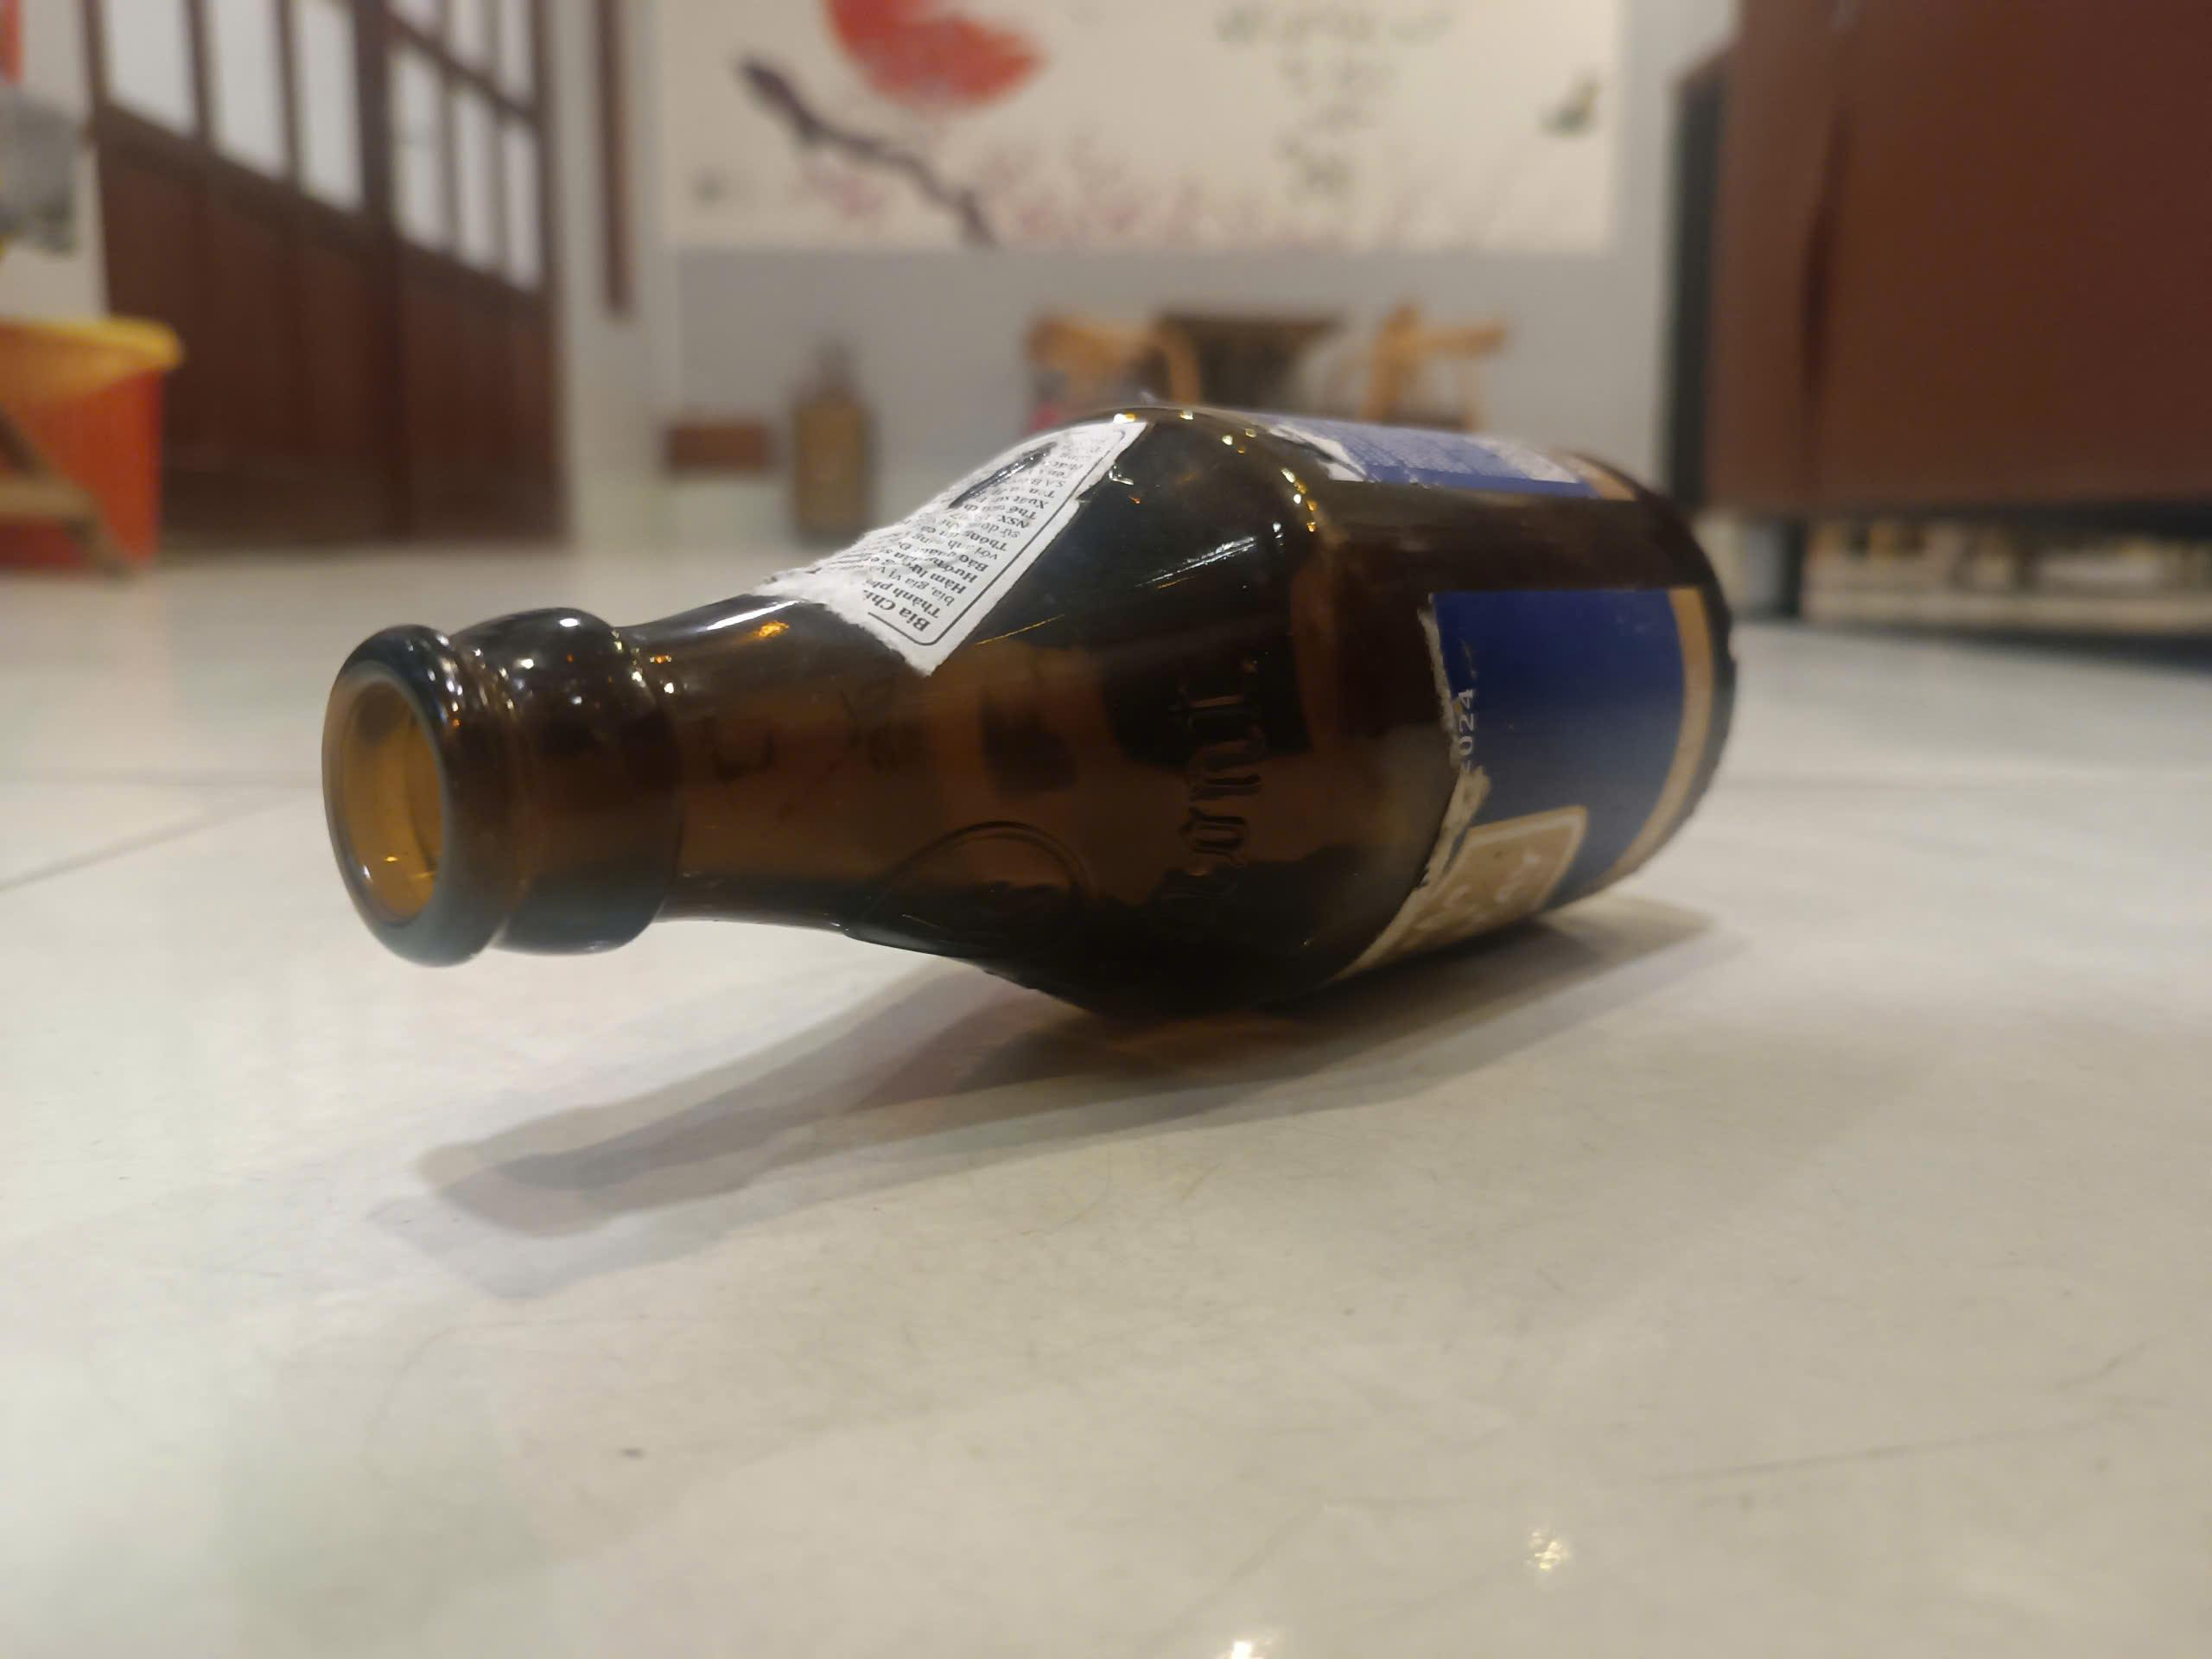Vo co: (331, 413, 1749, 983)
